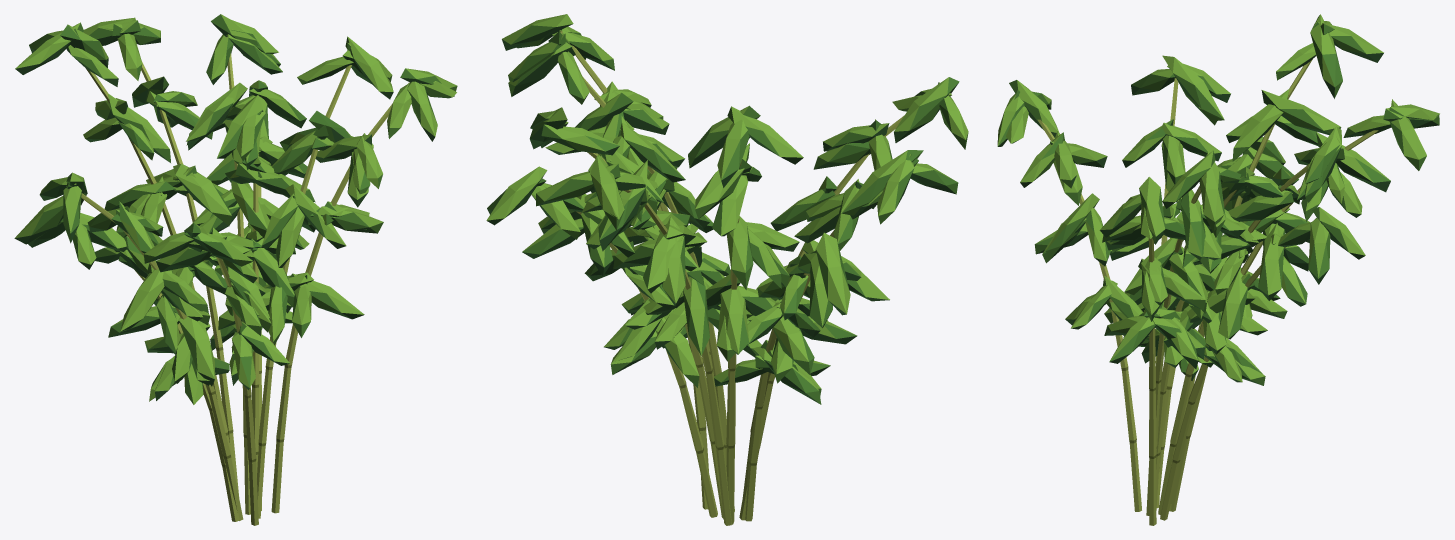
The model's file is T13_BambooClump.glb.
3 renders of one model, left to right at view 1: azimuth 30°, elevation 25°; view 2: azimuth 150°, elevation 25°; view 3: azimuth 270°, elevation 25°, orthographic. The views are drawn at different scales.
Parts seen in each view (by area): view 1: T13_BambooClump; view 2: T13_BambooClump; view 3: T13_BambooClump.
Boxes of the visible parts, x1,y1,x2,y2 form: T13_BambooClump: (14,14,457,525); T13_BambooClump: (486,14,968,525); T13_BambooClump: (997,14,1439,525).
Size of the model in its own units: 7.35 by 8.02 by 7.13.
